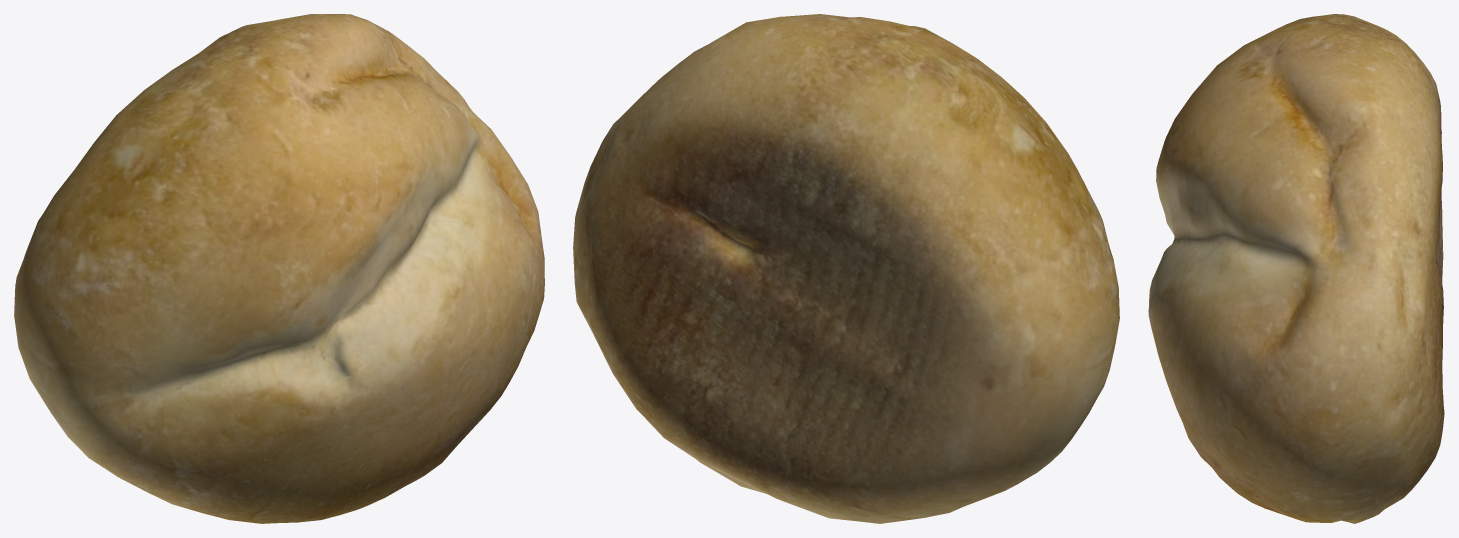
Rendered from burger_bun03.glb.
The picture shows the model from 3 angles, left to right: view 1: azimuth 30°, elevation 25°; view 2: azimuth 150°, elevation 25°; view 3: azimuth 270°, elevation 25°; orthographic projection. The views are drawn at different scales.
Visible parts, largest first — view 1: hamburger_buns_03; view 2: hamburger_buns_03; view 3: hamburger_buns_03.
Part boxes in pixels (<box>): hamburger_buns_03: <box>14,14,544,523</box>; hamburger_buns_03: <box>573,14,1119,523</box>; hamburger_buns_03: <box>1148,14,1444,523</box>.
Bounding box in the file's own units: 0.1074 × 0.0982 × 0.0573.
Materials: 1 (1 with a texture image).
